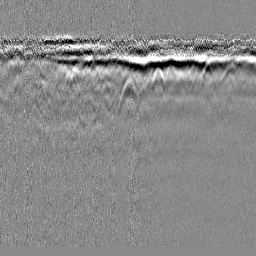cavity: (116, 72, 140, 115)
